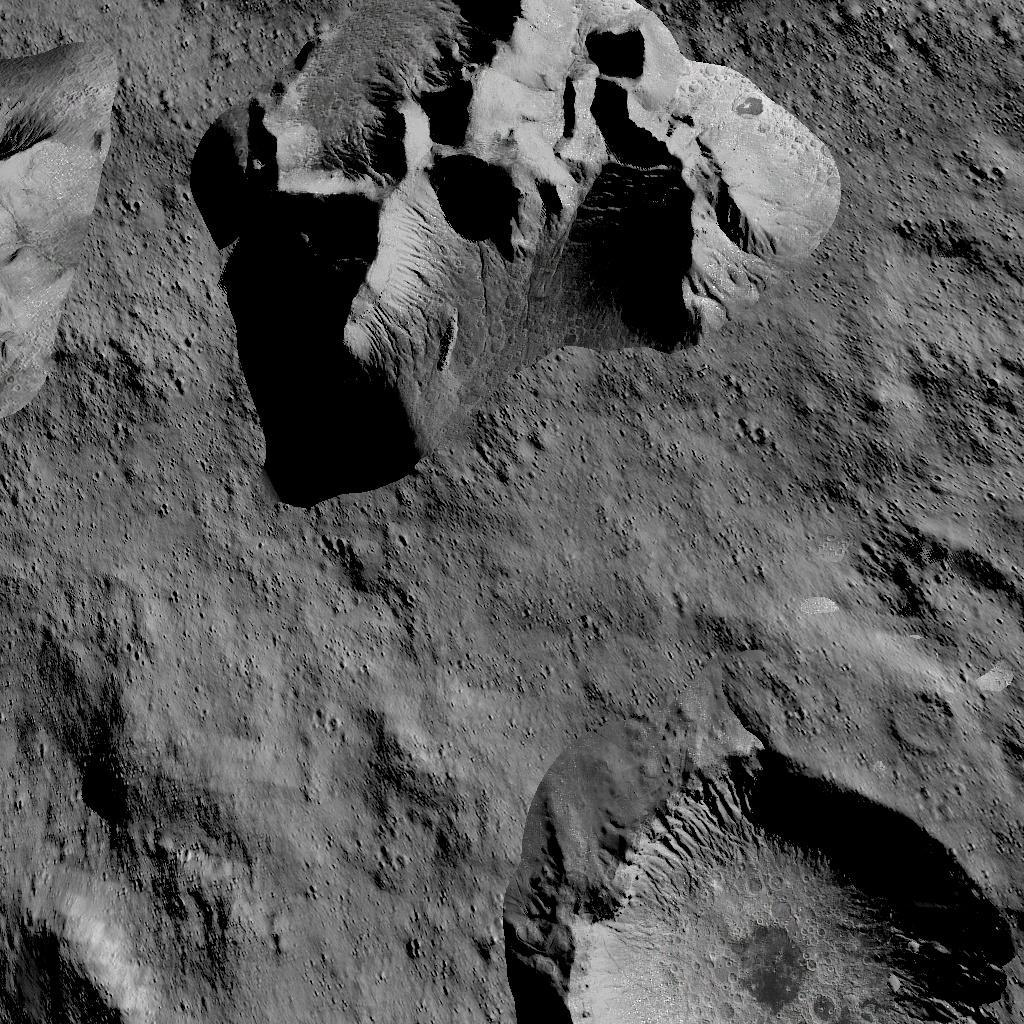Boulders: (190, 0, 848, 502), (0, 36, 127, 424)
Crater: (540, 738, 1024, 1022), (9, 884, 155, 1024)
Plan surface: (220, 512, 918, 724), (248, 746, 518, 1022)
